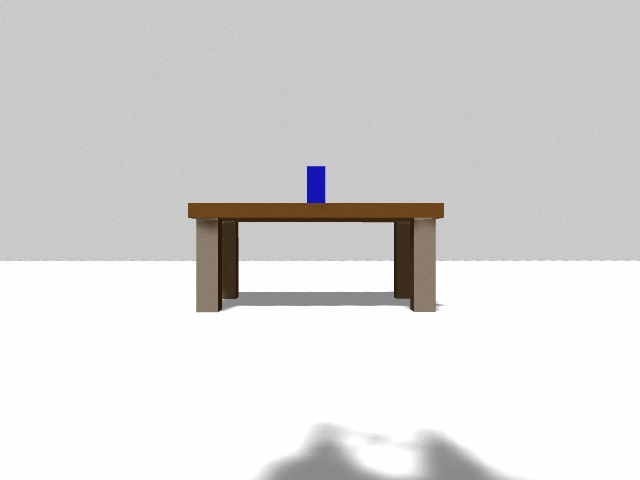blue_cube: (307, 166, 325, 203)
